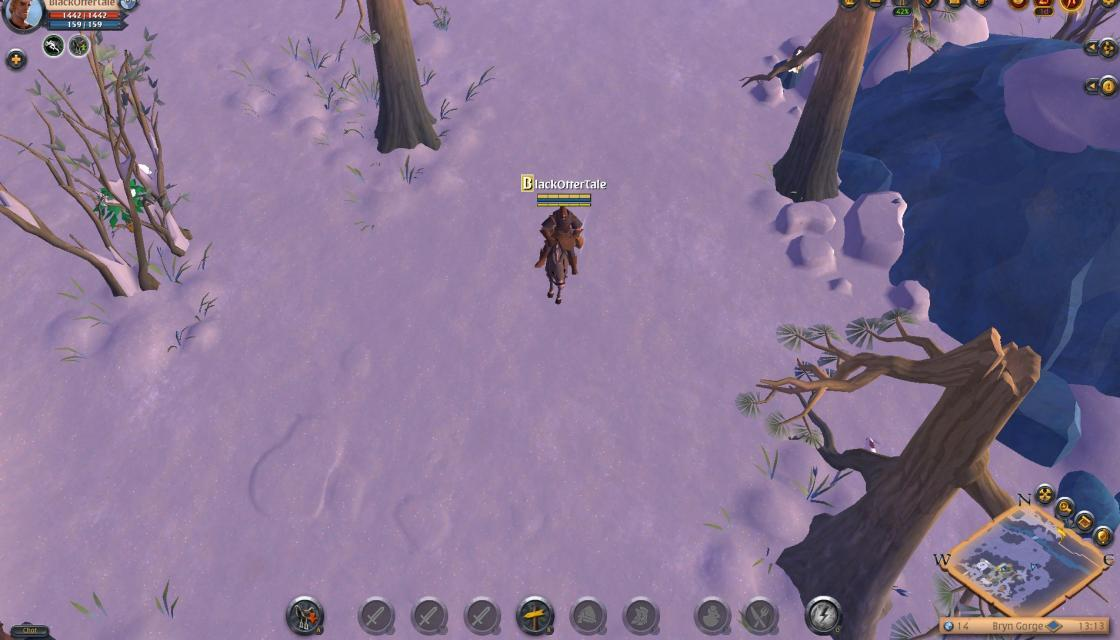copperore: (773, 45, 805, 88)
